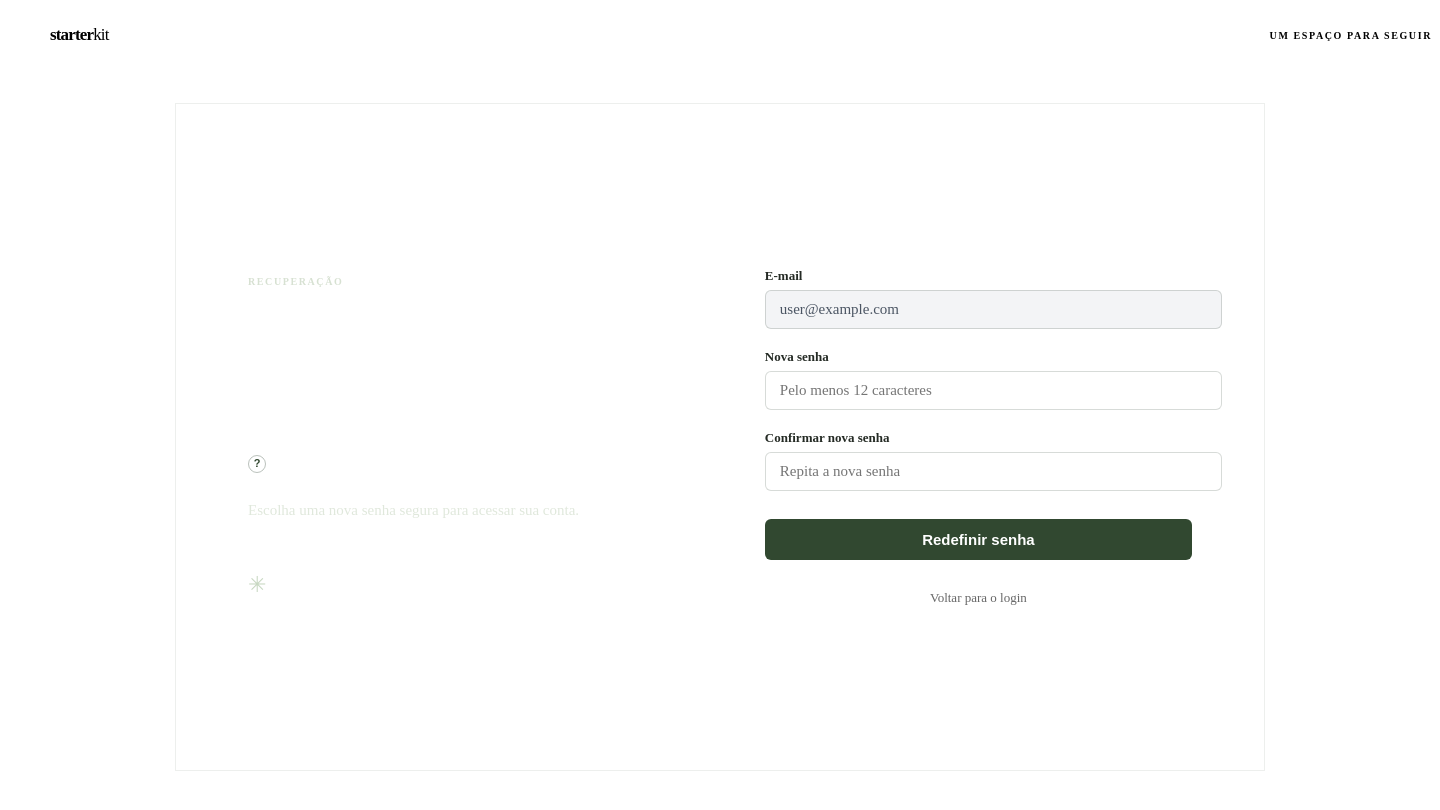
ResetPasswordPage.vue › validates that password must have at least 12 characters
This screenshot has width=1440, height=810.
In the password field with id "reset-password": [993, 390] box [765,370,1222,410], type "short123"
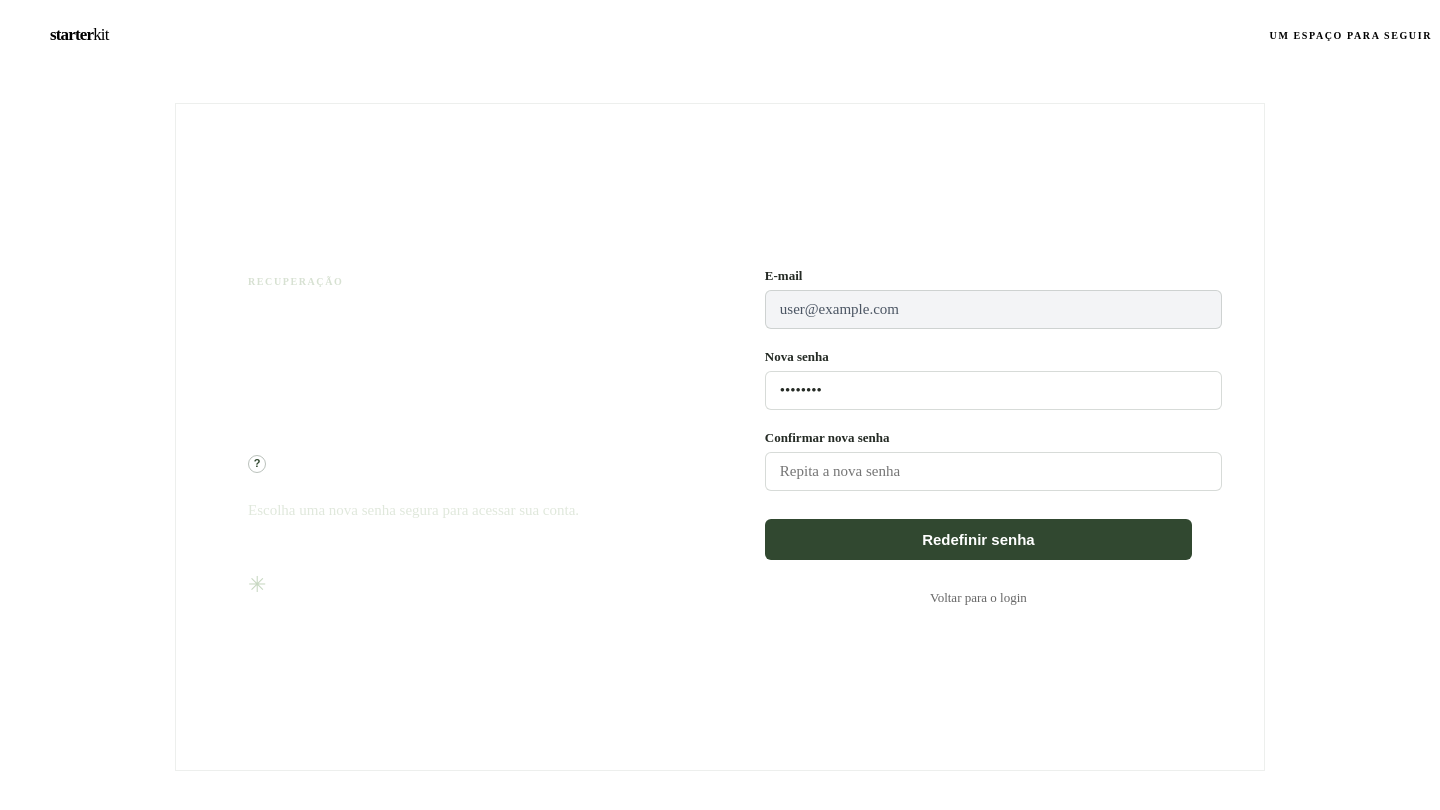
In the password field with id "reset-password-confirmation": [993, 471] box [765,452,1222,490], type "short123"
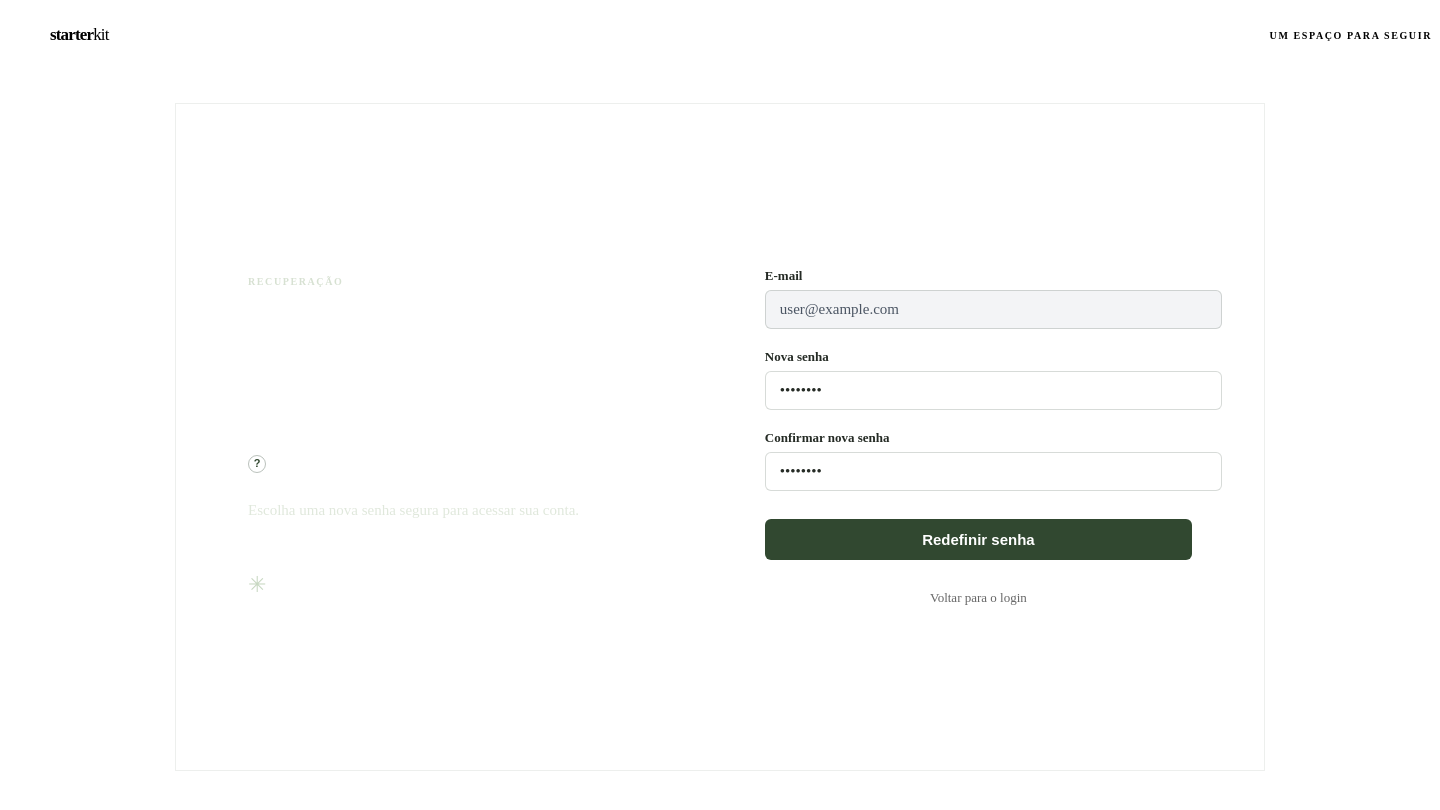
Submit the form, box [765,268,1192,606]
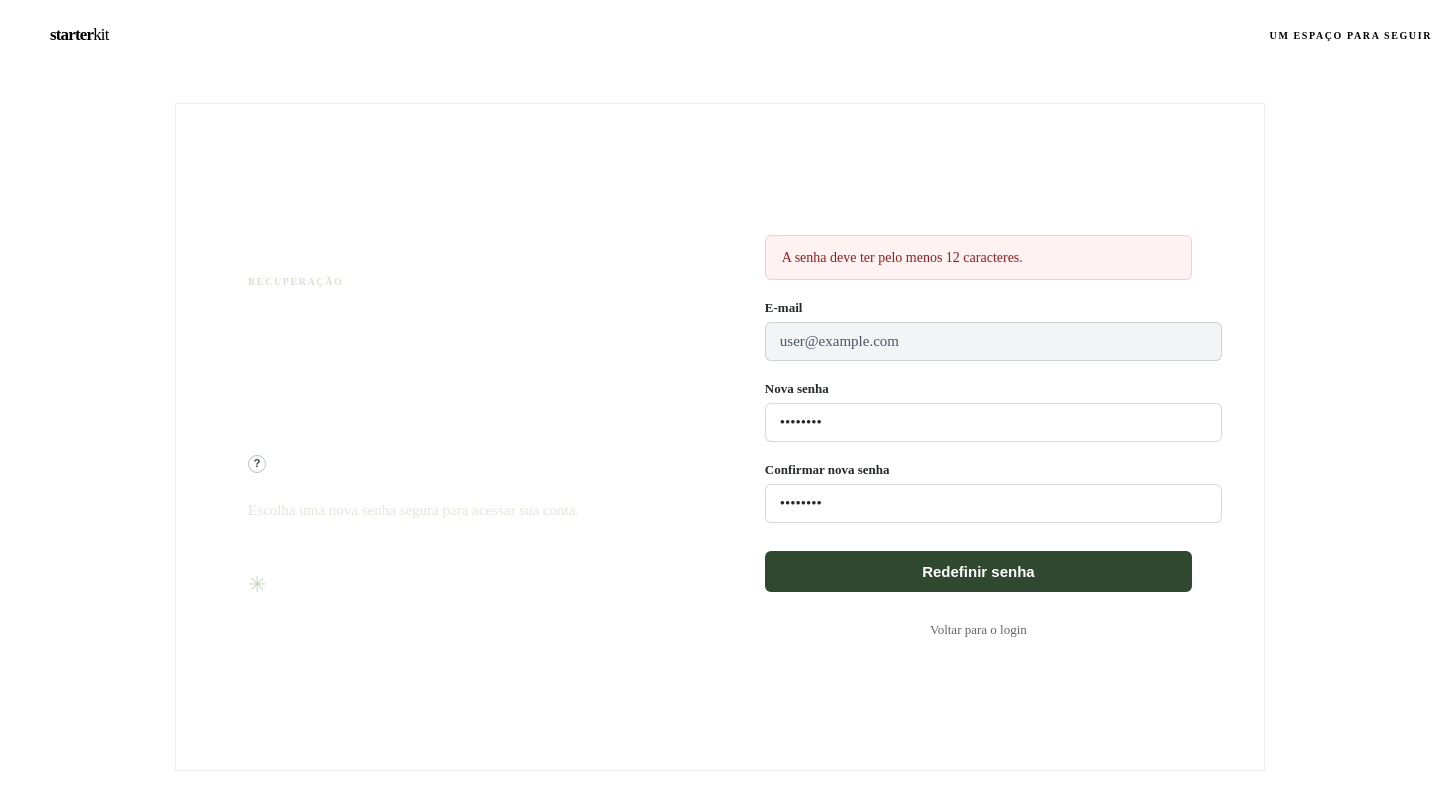
Result: the message "A senha deve ter pelo menos 12 caracteres." is shown at [765,235,1192,280]
